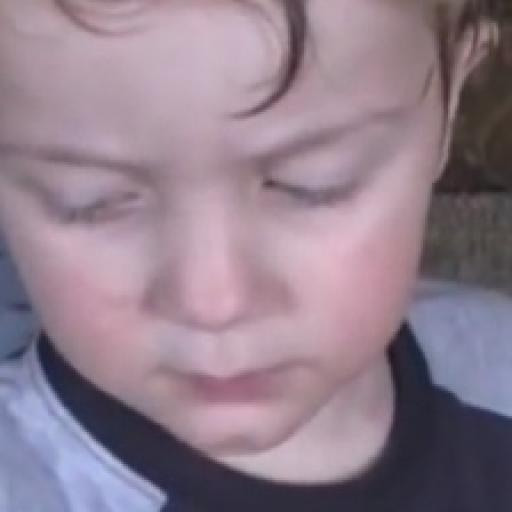Autism: (8, 6, 488, 445)
